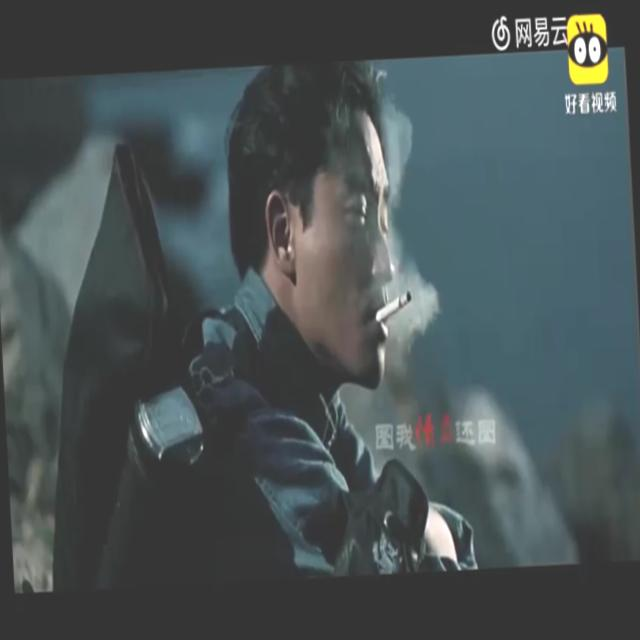smoke: (376, 284, 417, 317)
